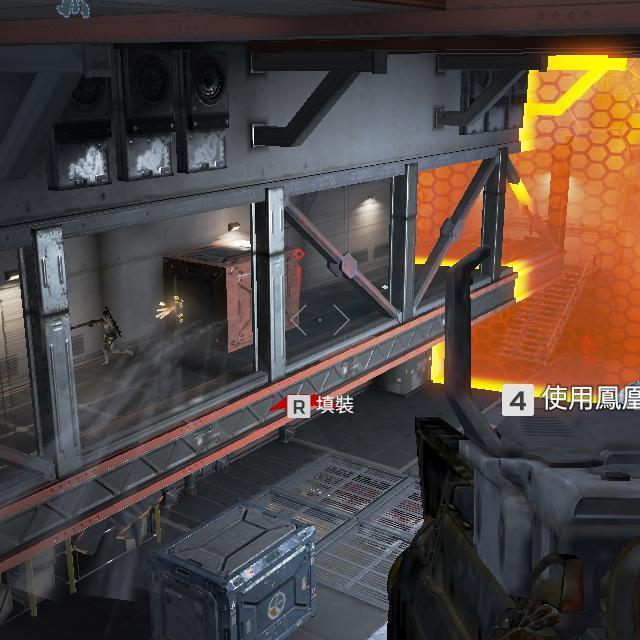avatar: (99, 307, 123, 367)
